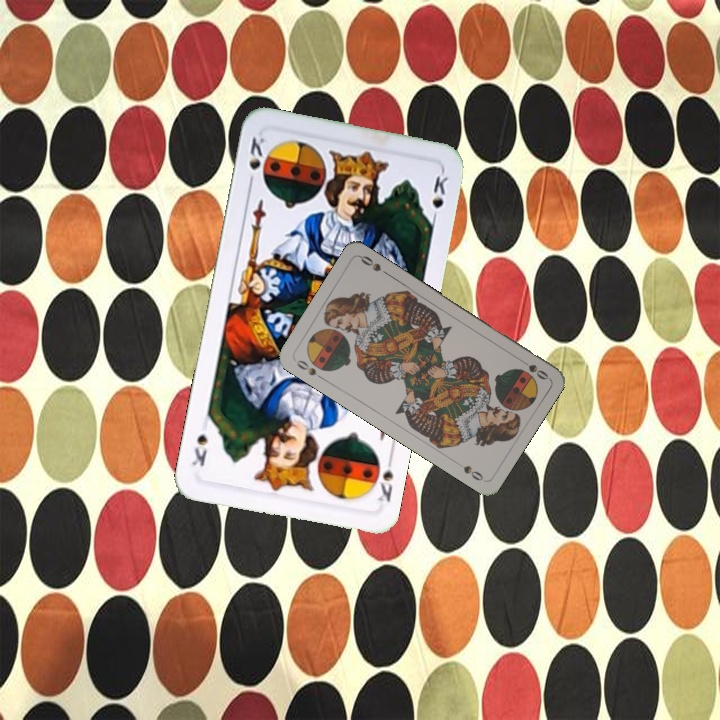SK: (244, 132, 267, 190), (373, 451, 396, 505)
SO: (515, 355, 551, 383), (292, 356, 327, 382)
